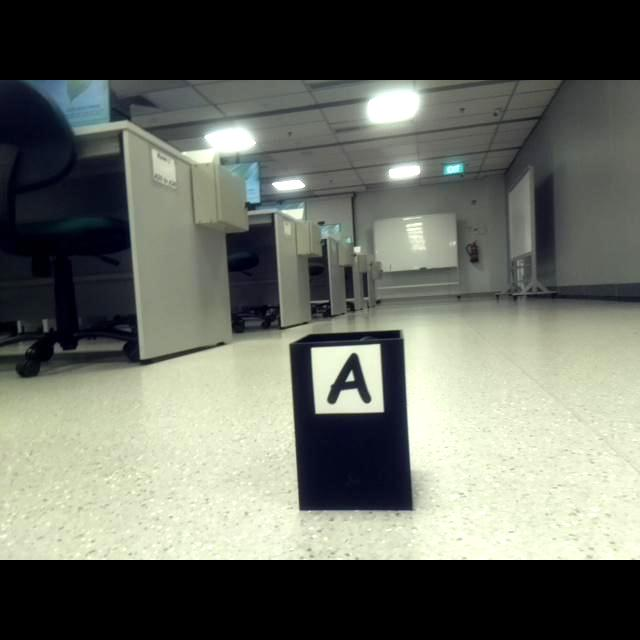A: (327, 354, 371, 405)
